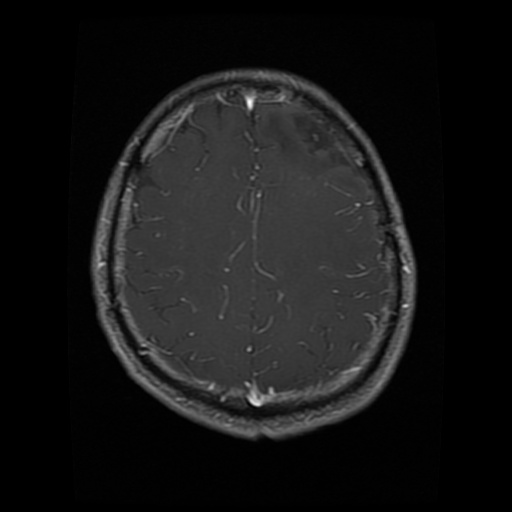glioma: (263, 106, 354, 175)
